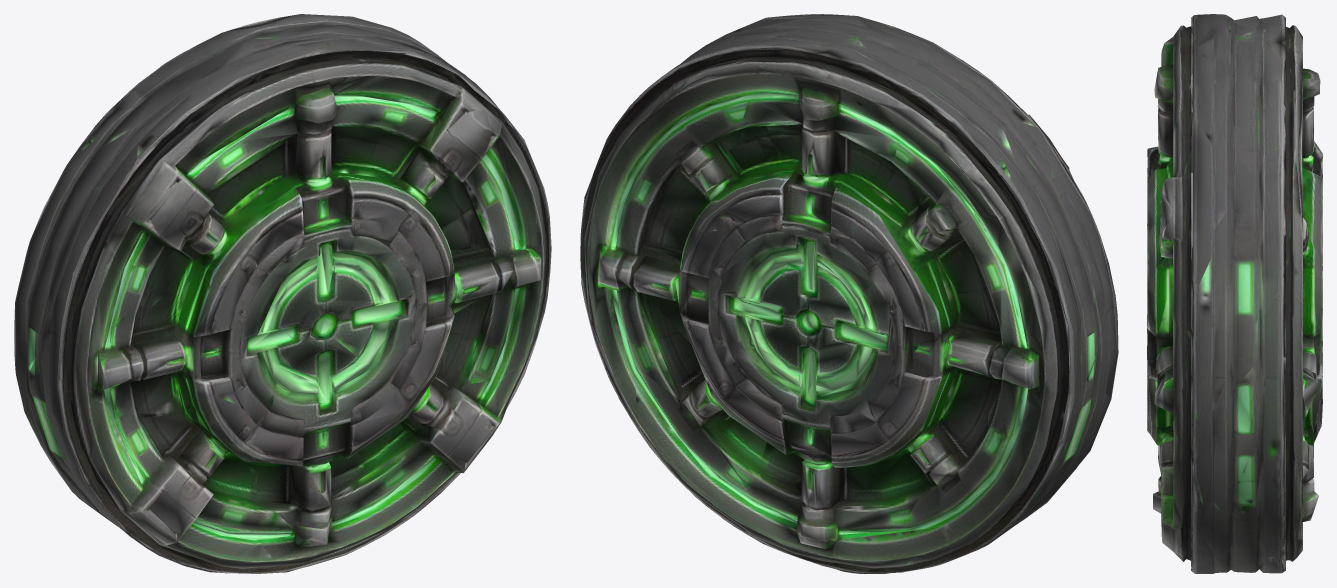
Rendered from main-vault-door.glb.
The picture shows the model from 3 angles, left to right: view 1: azimuth 30°, elevation 25°; view 2: azimuth 150°, elevation 25°; view 3: azimuth 270°, elevation 25°; orthographic projection.
Visible parts, largest first — view 1: material; view 2: material; view 3: material.
Boxes of the visible parts, <box> form: material: <box>14,14,551,573</box>; material: <box>580,14,1118,573</box>; material: <box>1147,14,1322,573</box>.
Size of the model in its own units: 1.18 by 1.18 by 0.3705.
1 material, 1 textured.
